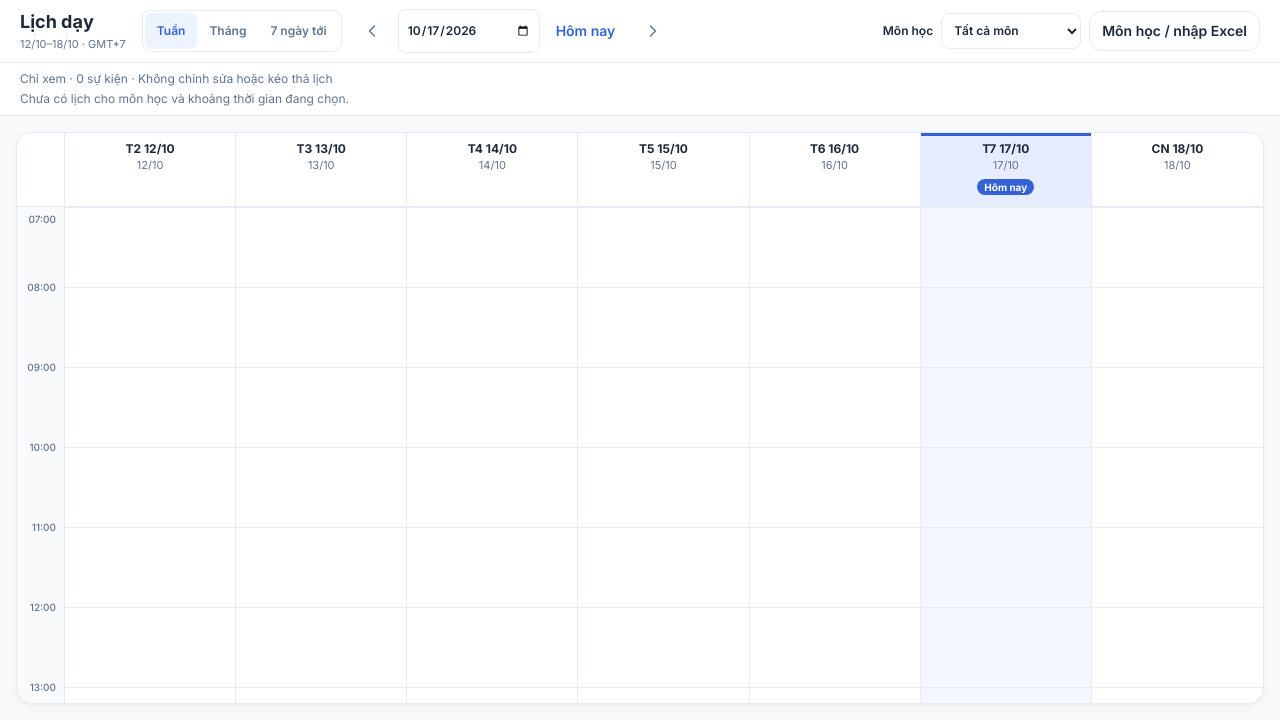
Test case: InstructorSchedulePage read-only calendar › opens on the real Vietnam calendar week instead of the fixed demo week
Expected: the text "12/10–18/10 · GMT+7" is shown, [20,36,126,54]
Type "2026-10-08" into the date field named "Chọn ngày" at (469, 31), box [398,9,540,53]
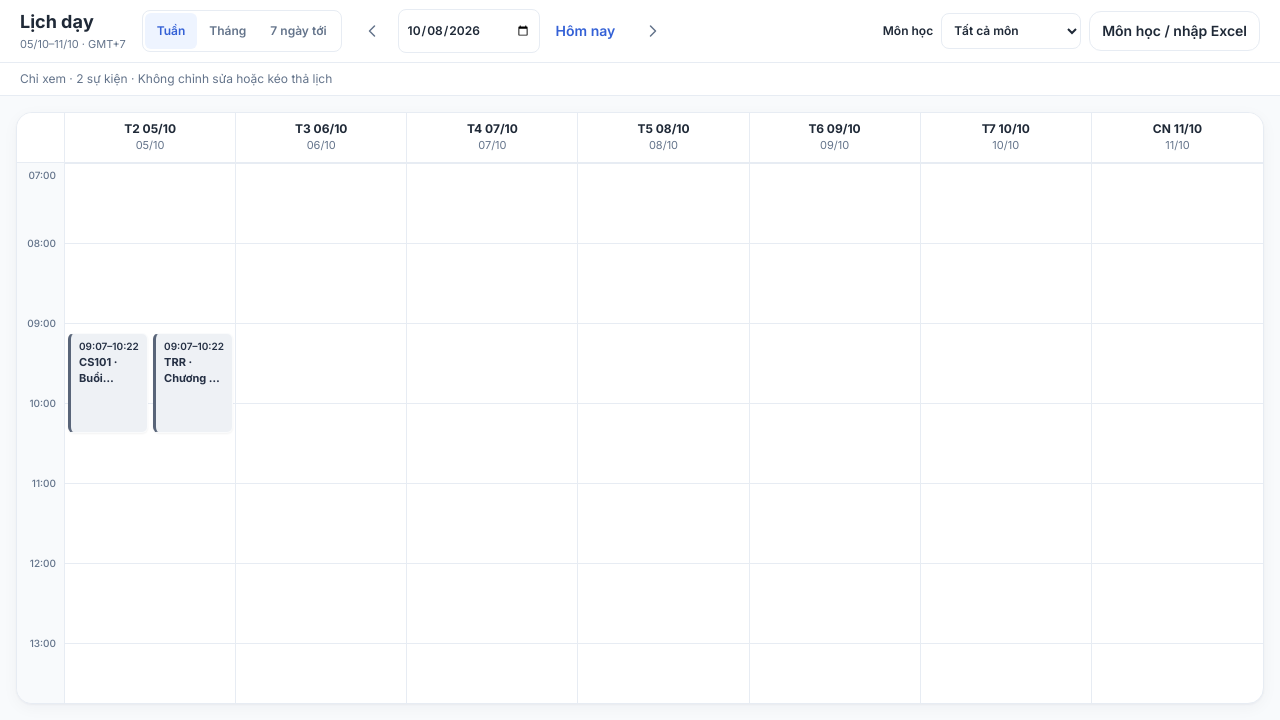
Click the button "Hôm nay" at (585, 31), box [544,9,627,53]
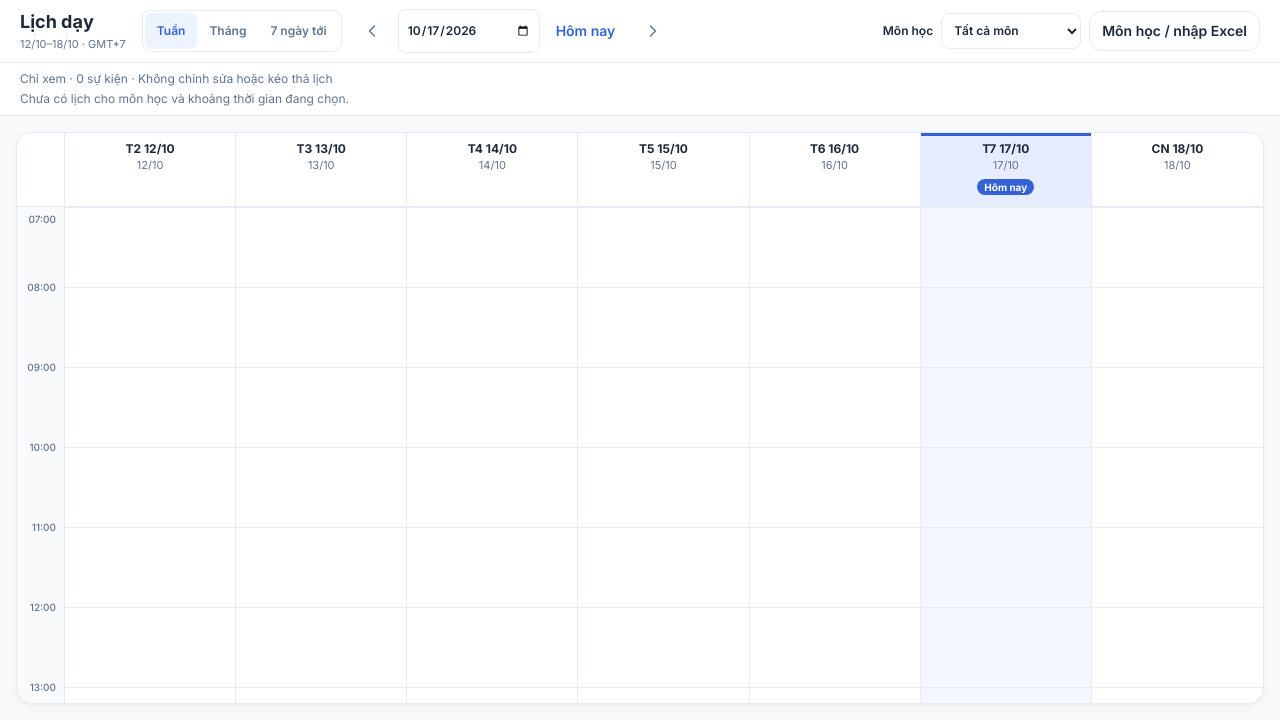
Now the date field named "Chọn ngày" holds "2026-10-17", box [398,9,540,53]
